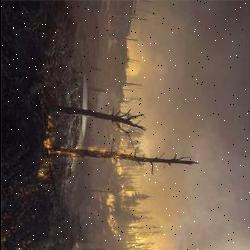fire: (37, 118, 118, 180), (102, 191, 126, 236)
